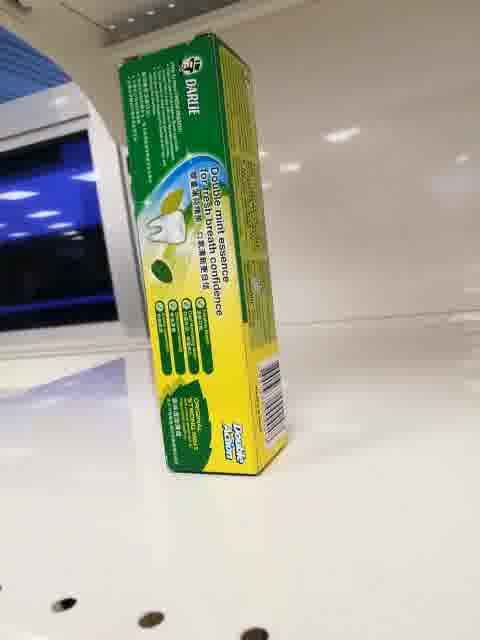toothpaste: (115, 30, 286, 477)
